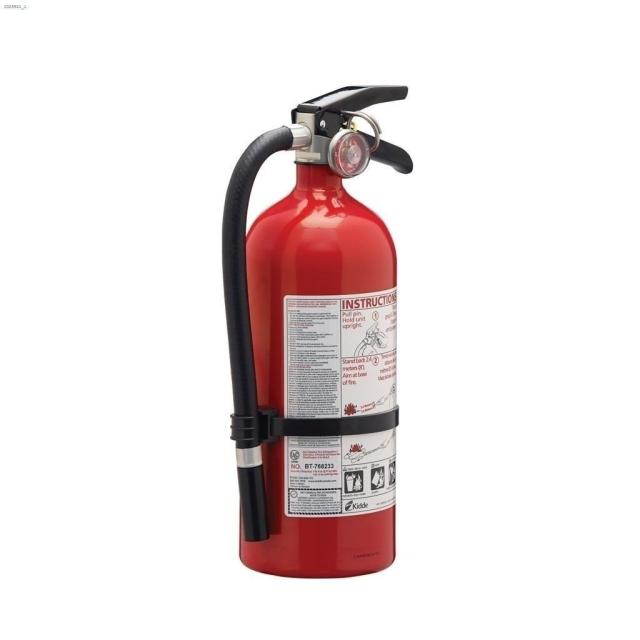fire_extinguisher: (217, 80, 418, 584)
